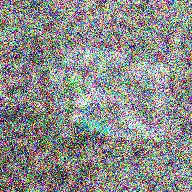러키펜정: (74, 95, 91, 109)
씨엠지세파클러캡슐: (68, 106, 96, 125)
에르도캡슐: (76, 119, 110, 135)
휴티렌정: (67, 76, 83, 95)
